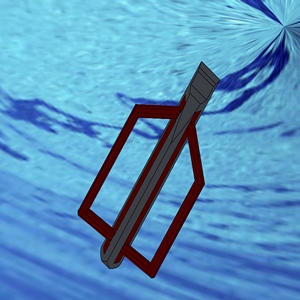submarine: (69, 34, 234, 293)
